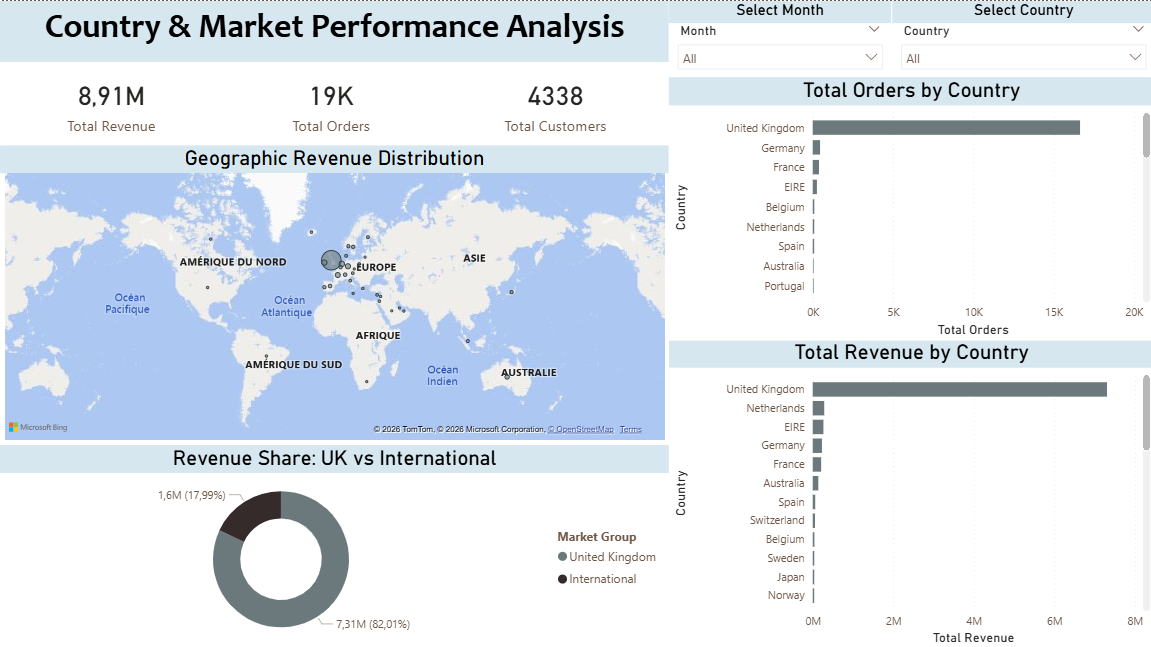

What the dashboard file says about the page in this screenshot:
{"tool":"powerbi","page":{"name":"Market Analysis","canvas":[1280,720],"ordinal":3},"visuals":[{"type":"textbox","box":[0,0,741.9,67.7],"z":0},{"type":"card","fields":{"Values":["Online Retail.Total Revenue"]},"box":[0,67.7,246.8,91.9],"z":1000},{"type":"card","fields":{"Values":["Online Retail.Total Orders"]},"box":[246.8,67.7,241.9,91.9],"z":2000},{"type":"card","fields":{"Values":["Online Retail.Total Customers"]},"box":[488.7,67.7,253.2,91.9],"z":3000},{"type":"clusteredBarChart","fields":{"Category":["Online Retail.Country"],"Y":["Online Retail.Total Revenue"]},"box":[741.9,375.8,538.7,343.5],"z":4000},{"type":"map","title":"Geographic Revenue Distribution","fields":{"Category":["Online Retail.Country"],"Size":["Online Retail.Total Revenue"]},"box":[0,159.7,741.9,332.3],"z":5000},{"type":"clusteredBarChart","fields":{"Category":["Online Retail.Country"],"Y":["Online Retail.Total Orders"]},"box":[741.9,83.9,538.7,291.9],"z":6000},{"type":"slicer","title":"Select Country ","fields":{"Values":["Online Retail.Country"]},"box":[988.7,0,291.9,83.9],"z":7000},{"type":"slicer","title":"Select Month","fields":{"Values":["Online Retail.Month"]},"box":[741.9,0,246.8,83.9],"z":8000},{"type":"donutChart","title":"Revenue Share: UK vs International","fields":{"Category":["Online Retail.Market Group"],"Y":["Online Retail.Total Revenue"]},"box":[0,491.9,741.9,227.4],"z":9000}]}

Visuals, with their boxes in screenshot pixels (x1, y1, x2, y2), scaled from the page's 1280x720 canvas onto the 1151x647 screenshot:
textbox: bbox=[0, 0, 667, 61]
card - Online Retail.Total Revenue: bbox=[0, 61, 222, 143]
card - Online Retail.Total Orders: bbox=[222, 61, 439, 143]
card - Online Retail.Total Customers: bbox=[439, 61, 667, 143]
clusteredBarChart - Online Retail.Country x Online Retail.Total Revenue: bbox=[667, 338, 1150, 646]
"Geographic Revenue Distribution" map: bbox=[0, 144, 667, 442]
clusteredBarChart - Online Retail.Country x Online Retail.Total Orders: bbox=[667, 75, 1150, 338]
"Select Country " slicer: bbox=[889, 0, 1150, 75]
"Select Month" slicer: bbox=[667, 0, 889, 75]
"Revenue Share: UK vs International" donutChart: bbox=[0, 442, 667, 646]
